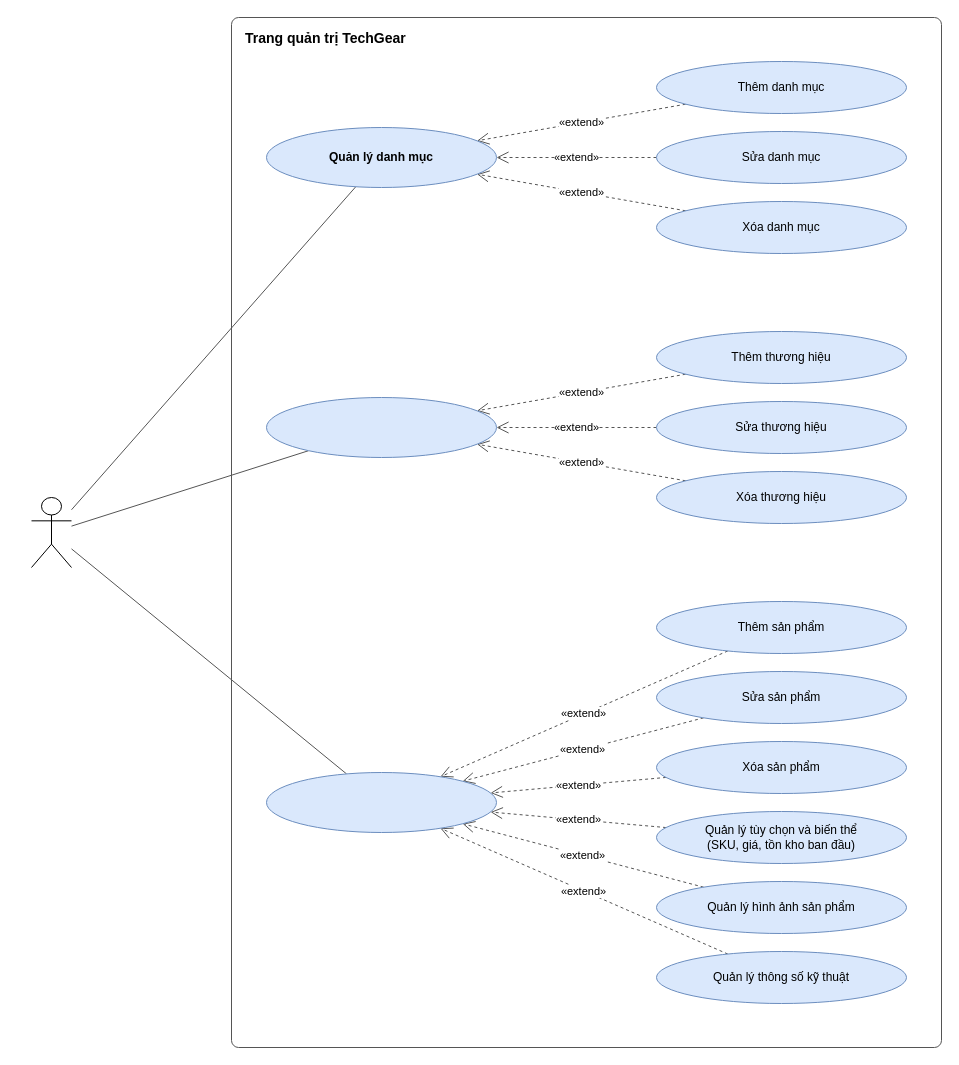
The diagram is 959 pixels wide and 1065 high, and some of its shapes have lost their labels. Each missing label, with the centre of its shape:
"Quản lý sản phẩm" goes at (381,802).
"Quản lý thương hiệu" goes at (381,427).
"Quản trị viên" goes at (51,532).
